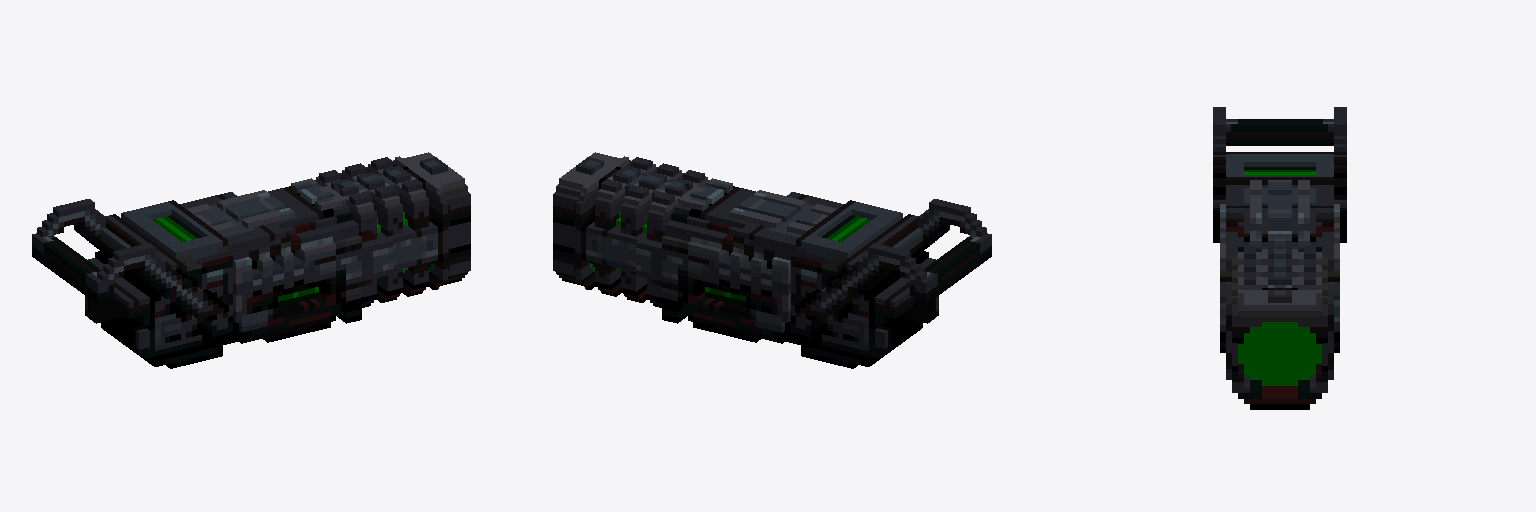
3 renders of one model, left to right at view 1: azimuth 30°, elevation 25°; view 2: azimuth 150°, elevation 25°; view 3: azimuth 270°, elevation 25°, orthographic.
Parts seen in each view (by area): view 1: bfg-flat; view 2: bfg-flat; view 3: bfg-flat.
Part boxes in pixels (left/top/right/bottom): bfg-flat: left=32, top=152, right=470, bottom=368; bfg-flat: left=553, top=152, right=991, bottom=368; bfg-flat: left=1213, top=107, right=1346, bottom=409.
Size of the model in its own units: 130 by 42.66 by 39.1.
1 materials, 1 textured.